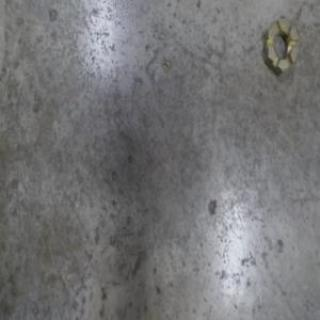Nuttrack_idkeyframe: (262, 15, 300, 80)
